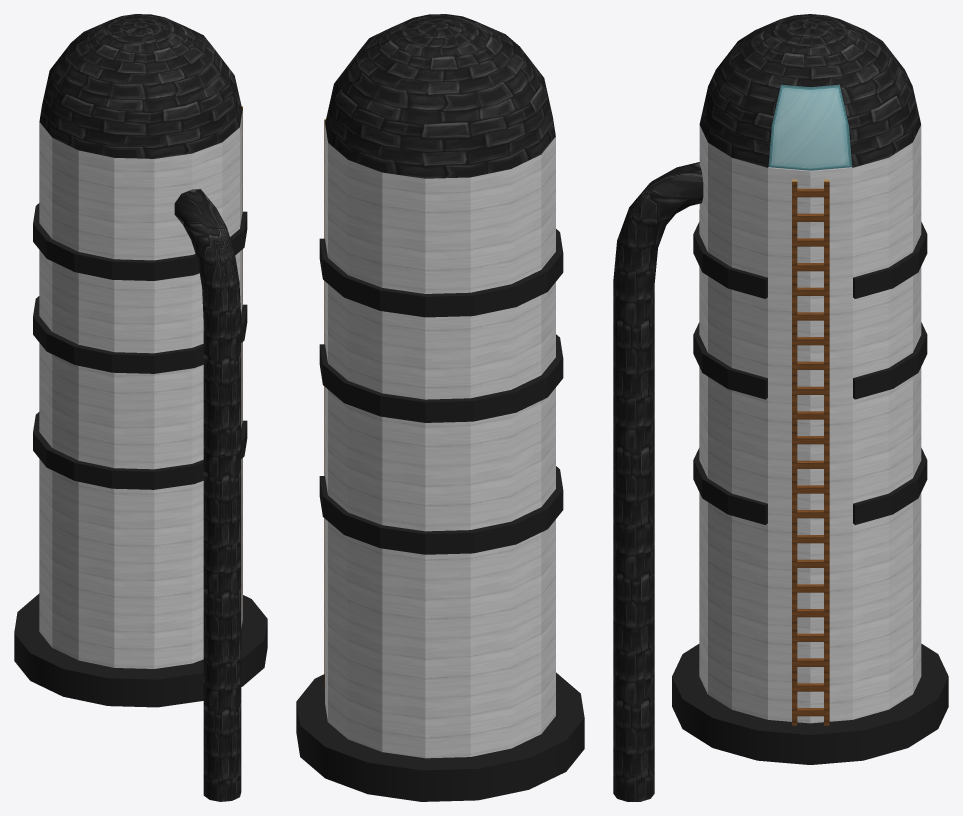
The model's file is Silo.FBX.
3 renders of one model, left to right at view 1: azimuth 30°, elevation 25°; view 2: azimuth 150°, elevation 25°; view 3: azimuth 270°, elevation 25°, orthographic. The views are drawn at different scales.
Parts seen in each view (by area): view 1: Silo; view 2: Silo; view 3: Silo, Ladder.
Part boxes in pixels (x1,y1,x2,y2): Silo: (14, 14, 267, 801); Silo: (296, 14, 584, 801); Silo: (613, 14, 948, 801); Ladder: (792, 179, 829, 725).
Bounding box in the file's own units: 100 × 307 × 121.
7 materials, 5 textured.
